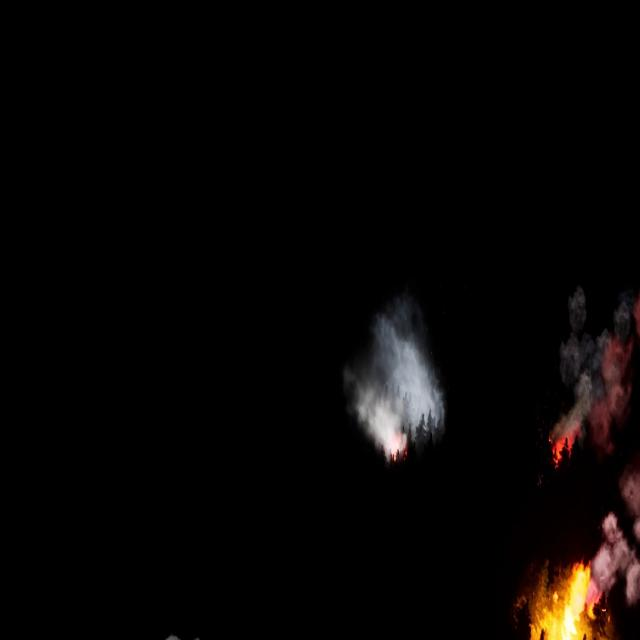fire: (532, 555, 598, 639)
smoke: (348, 298, 444, 472), (549, 292, 640, 447), (596, 483, 640, 618)
